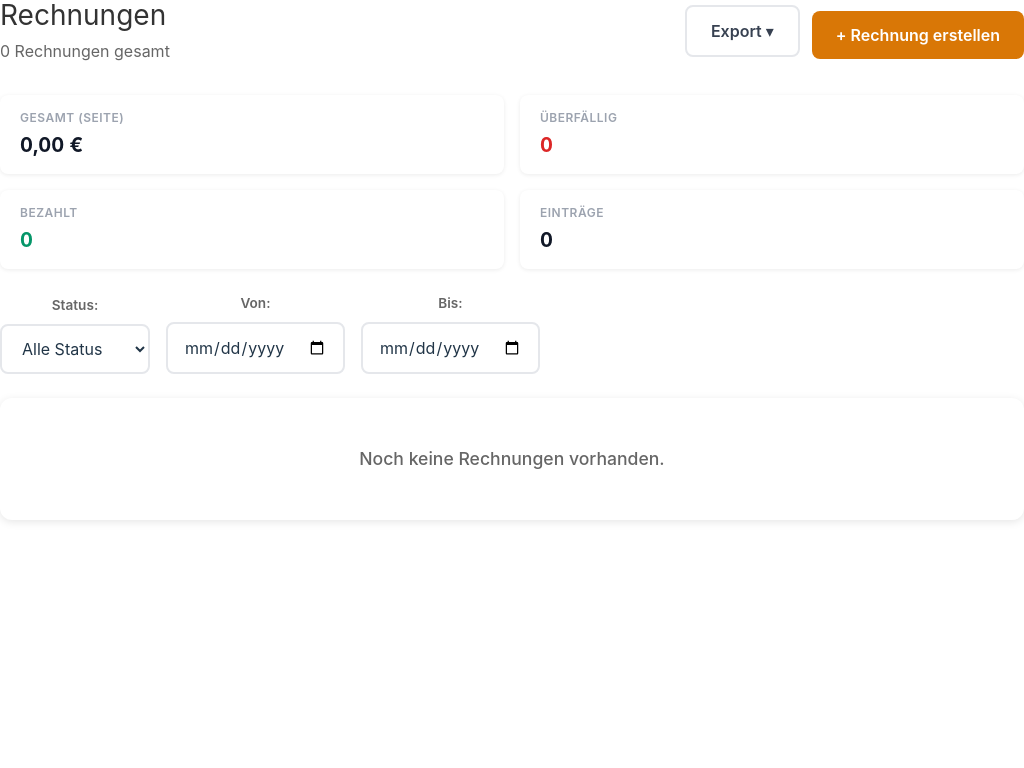
InvoicesPage — Bug #3 (generic error & dropdown filter) › shows the backend detail inline in the modal when creation fails
Note: Open the create modal
Click the button "+ Rechnung erstellen" at (918, 35), box [812,11,1023,59]
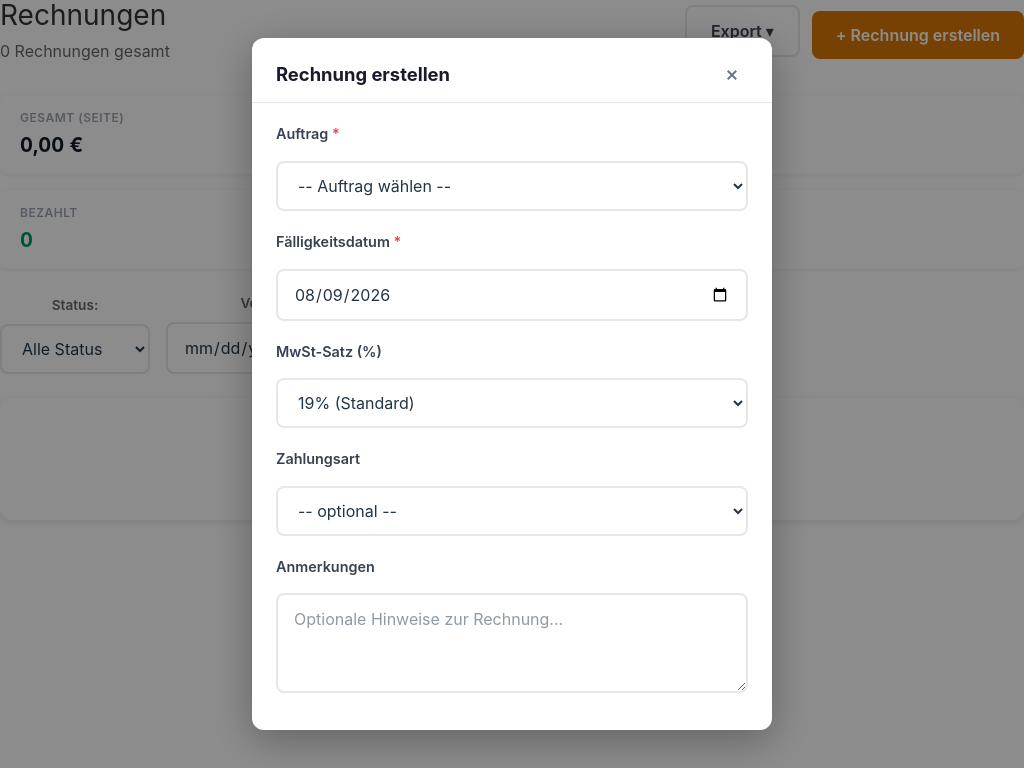
Note: Pick the eligible order
Select "#3 — Ohrringe Paar" in the dropdown labelled "Auftrag *" at (512, 186), box [276,161,748,211]
(page scrolled)
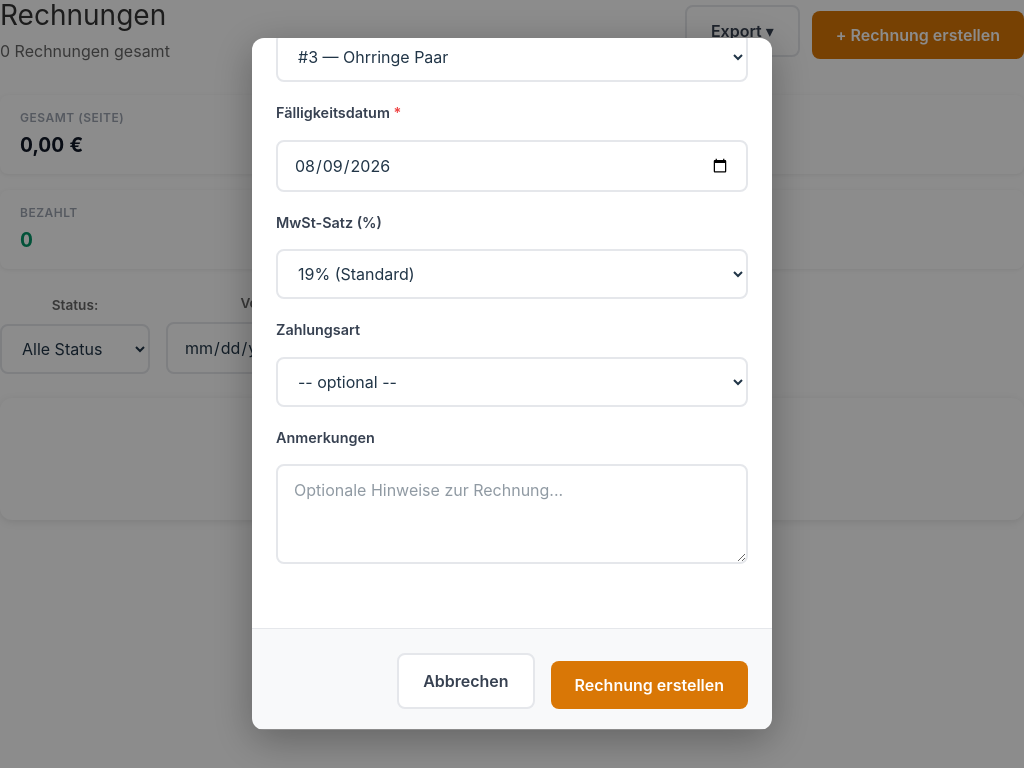
Click the button "Rechnung erstellen" at (649, 686), box [551,662,748,710]
(page scrolled)
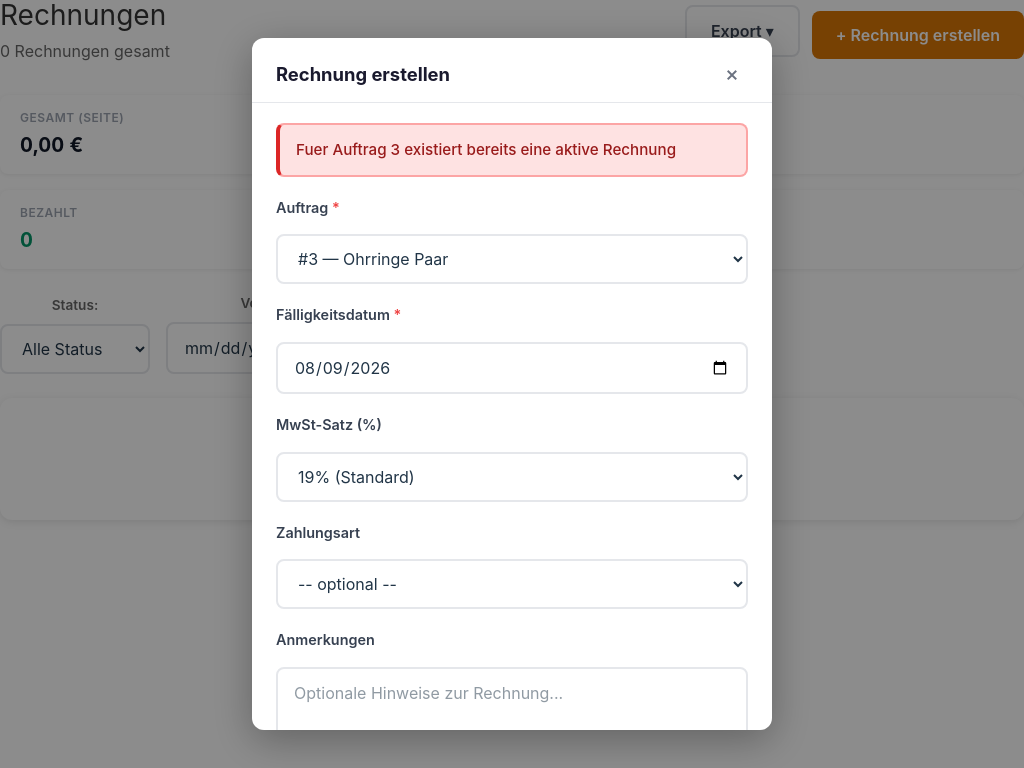
Expected: the message with test id "invoice-create-error" reads "Fuer Auftrag 3 existiert bereits eine aktive Rechnung", [296,140,676,159]
